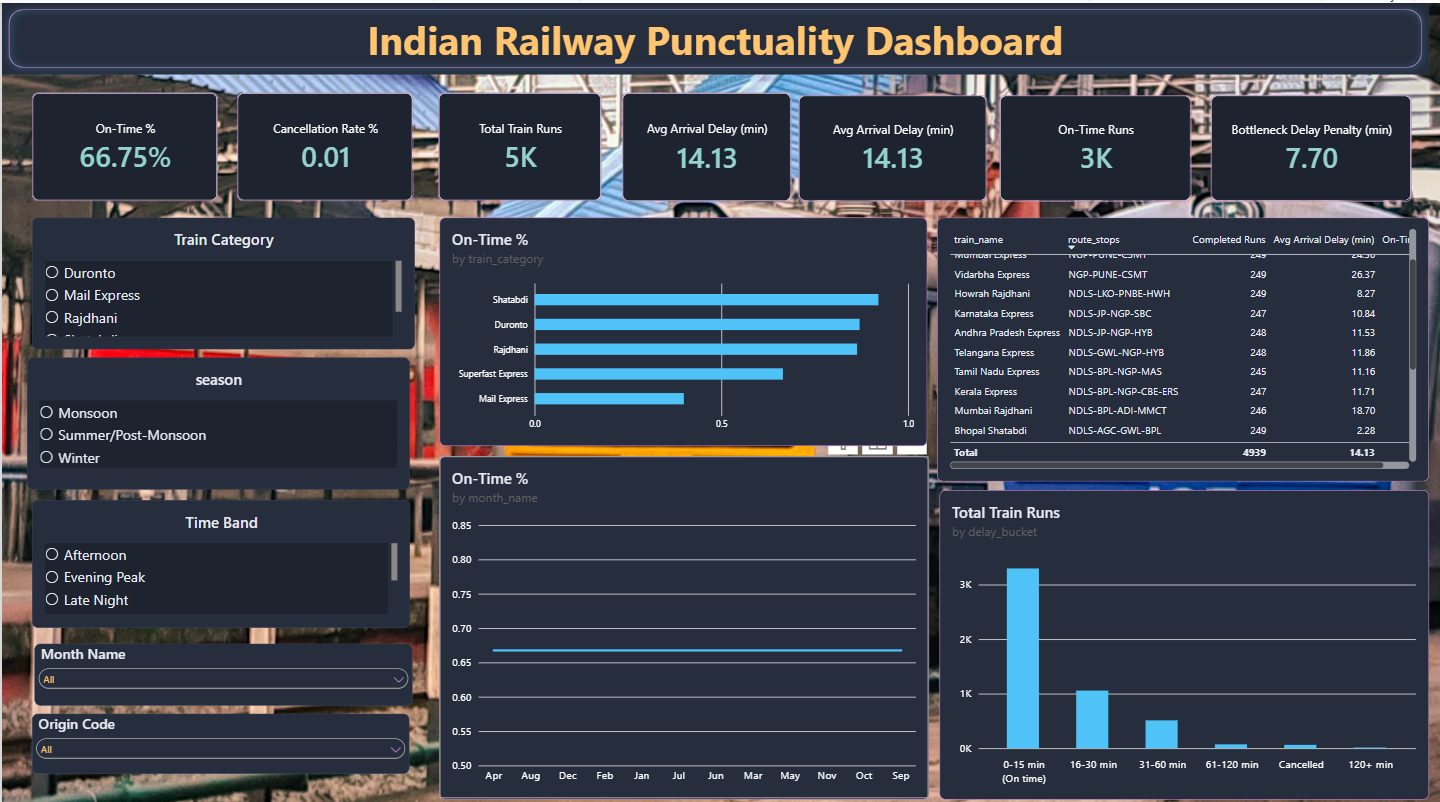

The dashboard page shown, as its layout file describes it:
{"tool":"powerbi","page":{"name":"Page 1","canvas":[1920,1080],"ordinal":0},"visuals":[{"type":"cardVisual","fields":{"Data":["dim_date.On-Time %"]},"box":[40,124,248.3,145],"z":0},{"type":"cardVisual","fields":{"Data":["dim_date.On-Time Runs"]},"box":[1330,126,256,142],"z":1000},{"type":"cardVisual","fields":{"Data":["dim_date.Avg Arrival Delay (min)"]},"box":[1062,126,252,142],"z":2000},{"type":"cardVisual","fields":{"Data":["dim_date.Cancellation Rate %"]},"box":[314,124,235,145],"z":3000},{"type":"cardVisual","fields":{"Data":["dim_date.Total Train Runs"]},"box":[582,124,218.3,145],"z":4000},{"type":"lineChart","fields":{"Category":["dim_date.month_name"],"Y":["dim_date.On-Time %"]},"box":[582.5,607.5,652.5,457.5],"z":5000},{"type":"clusteredColumnChart","fields":{"Category":["fact_train_runs.delay_bucket"],"Y":["dim_date.Total Train Runs"]},"box":[1250,652.5,652.5,412.5],"z":6000},{"type":"cardVisual","fields":{"Data":["dim_date.Avg Arrival Delay (min)"]},"box":[826,124,226,146],"z":7000},{"type":"shape","box":[0,4,1902,96],"z":8000},{"type":"cardVisual","fields":{"Data":["dim_date.Bottleneck Delay Penalty (min)"]},"box":[1612,126,268,142],"z":9000},{"type":"clusteredBarChart","fields":{"Category":["dim_train.train_category"],"Y":["dim_date.On-Time %"]},"box":[583.3,290,650,305],"z":10000},{"type":"tableEx","fields":{"Values":["dim_train.train_name","fact_train_runs.route_stops","dim_date.Completed Runs","dim_date.Avg Arrival Delay (min)","dim_date.On-Time %"]},"box":[1246,290,656,352],"z":11000},{"type":"listSlicer","title":"Train Category","fields":{"Values":["dim_train.train_category"]},"box":[40,290,510,176],"z":12000},{"type":"listSlicer","fields":{"Values":["dim_date.season"]},"box":[34,476,510,176],"z":13000},{"type":"listSlicer","title":"Time Band","fields":{"Values":["fact_train_runs.time_band"]},"box":[40,666,504,170],"z":14000},{"type":"slicer","fields":{"Values":["dim_date.month_name"]},"box":[44,858,504,82],"z":15000},{"type":"slicer","fields":{"Values":["fact_train_runs.origin_code"]},"box":[40,951.7,503.3,80],"z":16000}]}

Visuals, with their boxes in screenshot pixels (x1, y1, x2, y2), scaled from the page's 1920x1080 canvas onto the 1440x802 screenshot:
cardVisual - dim_date.On-Time %: 30/92/216/200
cardVisual - dim_date.On-Time Runs: 998/94/1190/199
cardVisual - dim_date.Avg Arrival Delay (min): 796/94/986/199
cardVisual - dim_date.Cancellation Rate %: 236/92/412/200
cardVisual - dim_date.Total Train Runs: 436/92/600/200
lineChart - dim_date.month_name x dim_date.On-Time %: 437/451/926/791
clusteredColumnChart - fact_train_runs.delay_bucket x dim_date.Total Train Runs: 938/485/1427/791
cardVisual - dim_date.Avg Arrival Delay (min): 620/92/789/200
shape: 0/3/1426/74
cardVisual - dim_date.Bottleneck Delay Penalty (min): 1209/94/1410/199
clusteredBarChart - dim_train.train_category x dim_date.On-Time %: 437/215/925/442
tableEx - dim_train.train_name x fact_train_runs.route_stops: 934/215/1426/477
"Train Category" listSlicer: 30/215/412/346
listSlicer - dim_date.season: 26/353/408/484
"Time Band" listSlicer: 30/495/408/621
slicer - dim_date.month_name: 33/637/411/698
slicer - fact_train_runs.origin_code: 30/707/407/766
